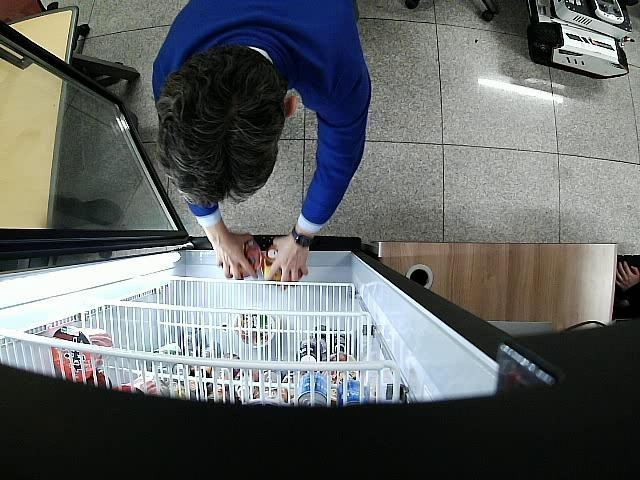05_nuguri_L: (261, 246, 303, 281), (239, 241, 257, 276)
